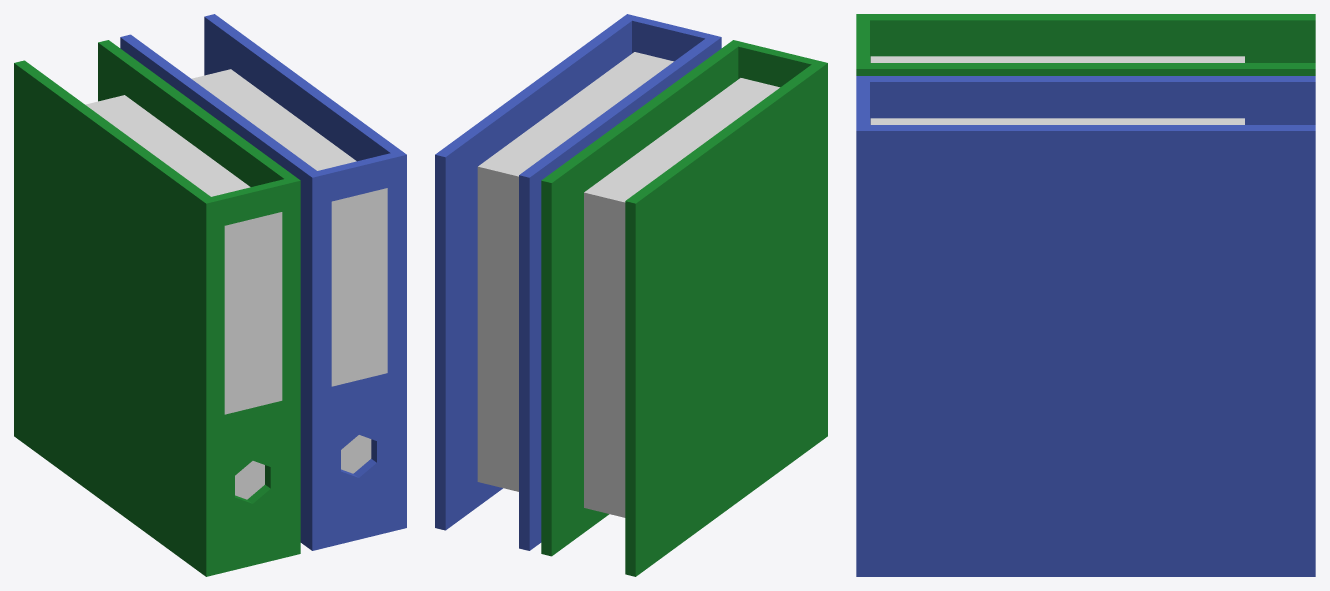
The model's file is binders.fbx.
3 views of the same model, side by side, from view 1: azimuth 30°, elevation 25°; view 2: azimuth 150°, elevation 25°; view 3: azimuth 270°, elevation 25° (orthographic). The views are drawn at different scales.
Visible parts, largest first — view 1: Cube.023; view 2: Cube.023; view 3: Cube.023.
Part boxes in pixels (x1,y1,x2,y2): Cube.023: (14,14,406,576); Cube.023: (435,14,827,576); Cube.023: (856,14,1315,576).
Size of the model in its own units: 30.25 by 53.74 by 50.16.
